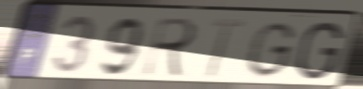3: (49, 13, 96, 76)
9: (100, 15, 146, 77)
G: (242, 20, 299, 80), (293, 20, 346, 83)
R: (139, 16, 201, 79)
T: (203, 16, 247, 80)
